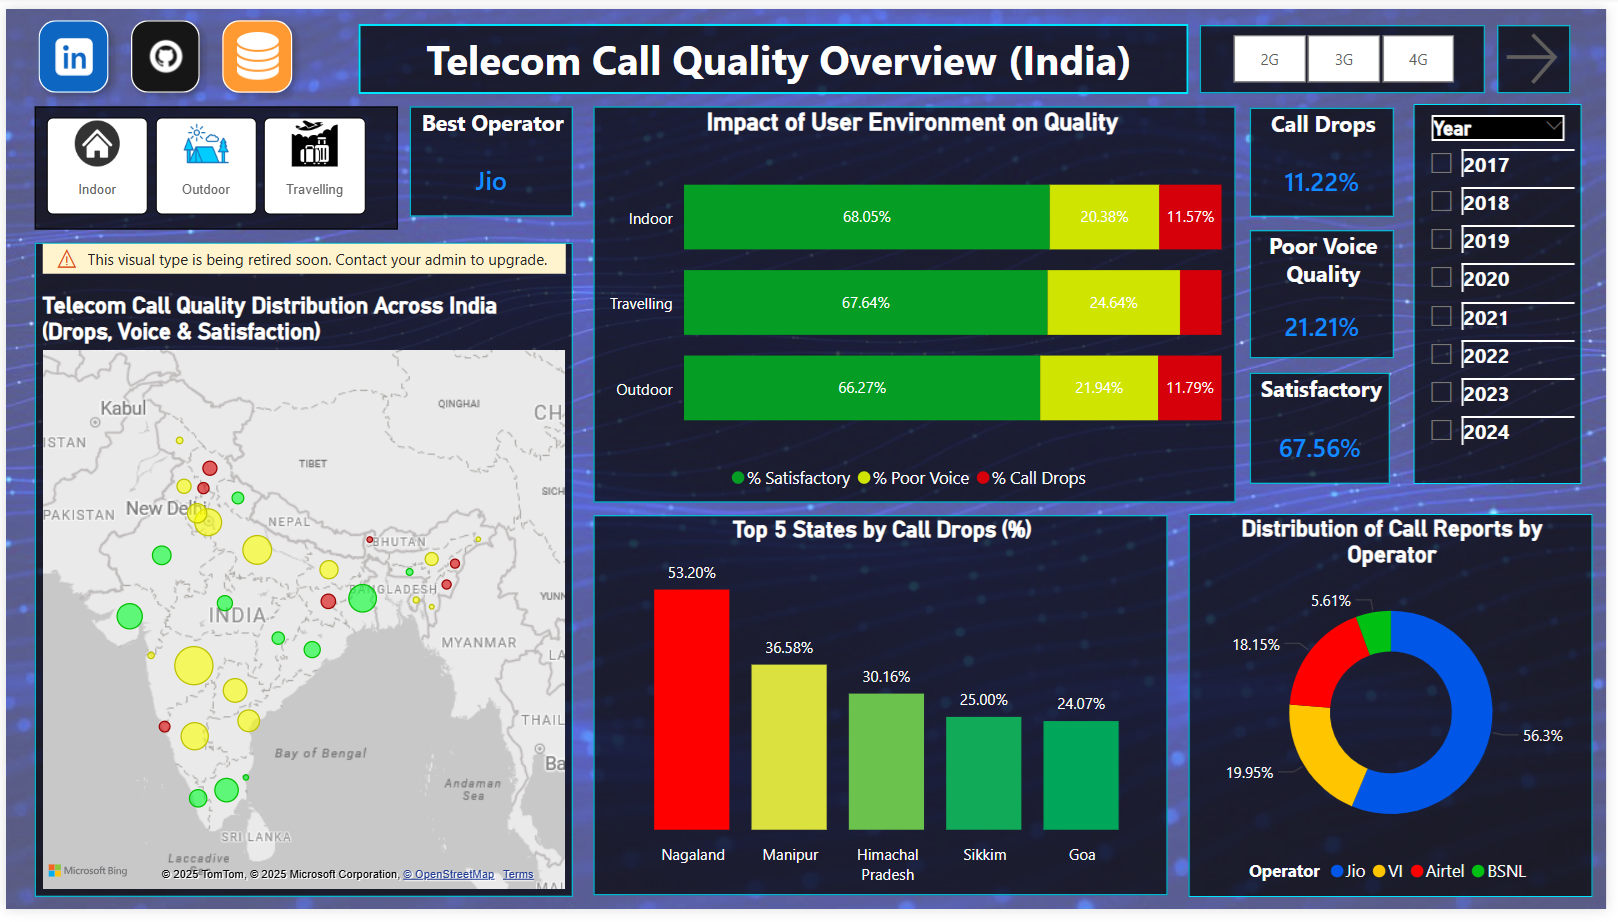

The page's visual inventory and layout, read from the dashboard file:
{"tool":"powerbi","page":{"name":"Dashboard 1","canvas":[1280,720],"ordinal":0},"visuals":[{"type":"clusteredColumnChart","title":"Top 5 States by Call Drops (%)","fields":{"Y":["DataSet.% Call Drops"],"Category":["DataSet.Clean_State"]},"box":[469.8,404.7,459.3,304.7],"z":0},{"type":"actionButton","box":[16.6,0,74.8,75.9],"z":1000},{"type":"actionButton","box":[91.5,0,72.7,75.9],"z":2000},{"type":"textbox","box":[281.6,12.5,664.1,55.1],"z":3000},{"type":"map","title":"Telecom Call Quality Distribution Across India (Drops, Voice & Satisfaction)","fields":{"Category":["DataSet.Clean_State"],"Size":["DataSet.Call Drops"]},"box":[23.3,187.2,430.2,523.3],"z":4000},{"type":"slicer","title":"Year","fields":{"Values":["DataSet.year"]},"box":[1125.6,75.6,134.9,304.7],"z":5000},{"type":"hundredPercentStackedBarChart","title":"Impact of User Environment on Quality","fields":{"Category":["DataSet.inout_travelling"],"Y":["DataSet.% Satisfactory","DataSet.% Poor Voice","DataSet.% Call Drops"]},"box":[469.8,77.9,512.8,317.4],"z":6000},{"type":"cardVisual","title":"Call Drops","fields":{"Data":["DataSet.% Call Drops"]},"box":[995.4,79.1,115.1,87.2],"z":7000},{"type":"cardVisual","title":"Poor Voice Quality","fields":{"Data":["DataSet.% Poor Voice"]},"box":[995.4,176.7,115.1,102.3],"z":8000},{"type":"cardVisual","title":"Satisfactory","fields":{"Data":["DataSet.% Satisfactory"]},"box":[995.4,290.7,111.6,89.5],"z":9000},{"type":"actionButton","box":[164.2,0,73.8,75.9],"z":10000},{"type":"cardVisual","title":"Best Operator","fields":{"Data":["DataSet.Best Operator Satisfaction"]},"box":[323.3,77.9,130.2,88.4],"z":11000},{"type":"donutChart","title":"Distribution of Call Reports by Operator","fields":{"Category":["DataSet.Clean_Operator"],"Y":["CountNonNull(DataSet.Clean_Operator)"]},"box":[945.7,404.3,323.2,305.5],"z":12000},{"type":"ChicletSlicer1448559807354","fields":{"Category":["Inout_Table.Item"],"Image":["Inout_Table.Icon"]},"box":[23.3,77.9,289.5,97.7],"z":13000},{"type":"actionButton","box":[1193,12.8,58.1,54.7],"z":14000},{"type":"slicer","fields":{"Values":["DataSet.network_type"]},"box":[954.7,12.8,227.9,54.7],"z":15000}]}

Visuals, with their boxes in screenshot pixels (x1, y1, x2, y2), scaled from the page's 1280x720 canvas onto the 1618x922 screenshot:
"Top 5 States by Call Drops (%)" clusteredColumnChart: 594, 518, 1174, 908
actionButton: 21, 0, 116, 97
actionButton: 116, 0, 208, 97
textbox: 356, 16, 1195, 87
"Telecom Call Quality Distribution Across India (Drops, Voice & Satisfaction)" map: 29, 240, 573, 910
"Year" slicer: 1423, 97, 1593, 487
"Impact of User Environment on Quality" hundredPercentStackedBarChart: 594, 100, 1242, 506
"Call Drops" cardVisual: 1258, 101, 1404, 213
"Poor Voice Quality" cardVisual: 1258, 226, 1404, 357
"Satisfactory" cardVisual: 1258, 372, 1399, 487
actionButton: 208, 0, 301, 97
"Best Operator" cardVisual: 409, 100, 573, 213
"Distribution of Call Reports by Operator" donutChart: 1195, 518, 1604, 909
ChicletSlicer1448559807354 - Inout_Table.Item x Inout_Table.Icon: 29, 100, 395, 225
actionButton: 1508, 16, 1581, 86
slicer - DataSet.network_type: 1207, 16, 1495, 86
